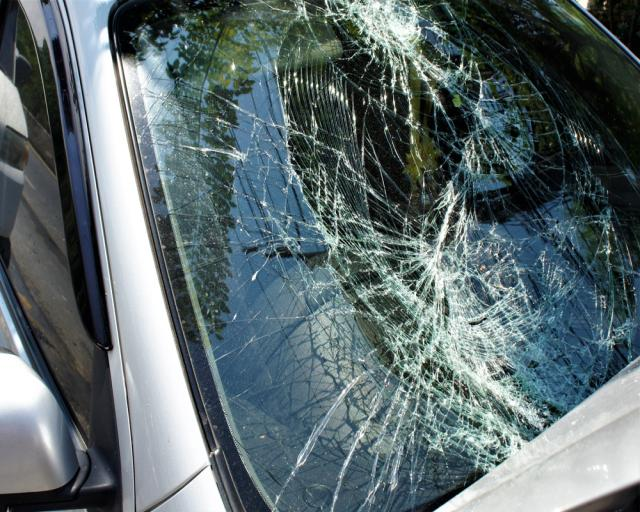glass shatter: (115, 0, 640, 512)
